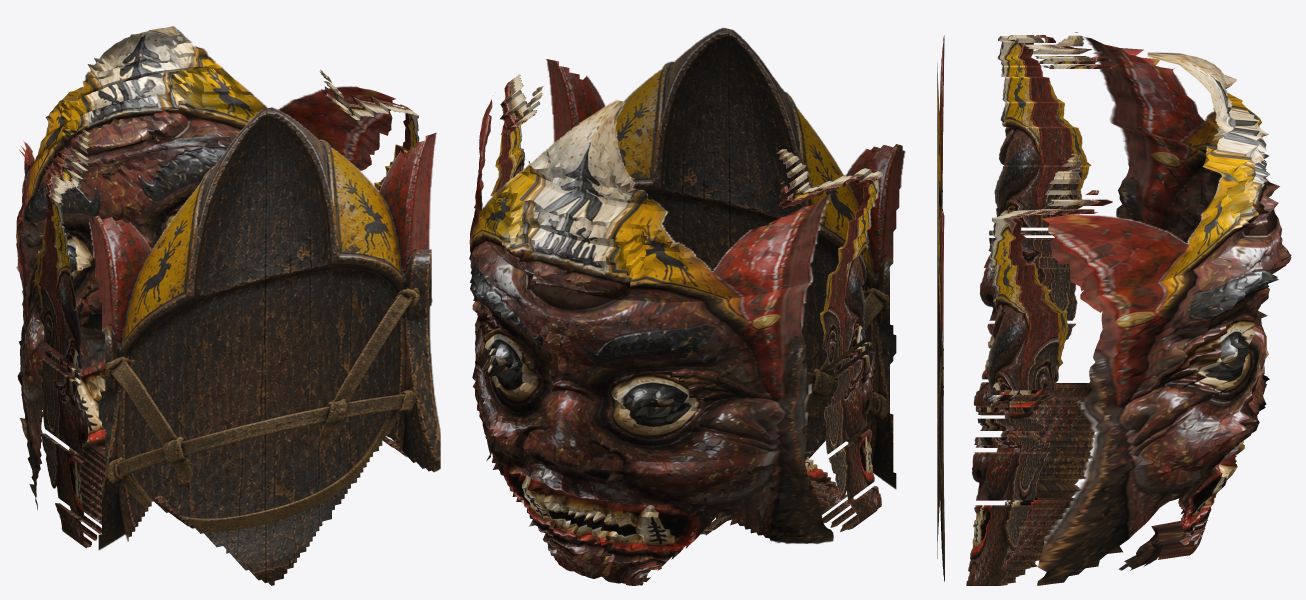
Rendered from kailu-jiangjun.glb.
3 views of the same model, side by side, from view 1: azimuth 30°, elevation 25°; view 2: azimuth 150°, elevation 25°; view 3: azimuth 270°, elevation 25° (orthographic). The views are drawn at different scales.
Visible parts, largest first — view 1: KailuJiangjun; view 2: KailuJiangjun; view 3: KailuJiangjun.
Part boxes in pixels (box(x1,y1,x2,y2)): KailuJiangjun: box(16, 26, 440, 585); KailuJiangjun: box(469, 27, 905, 585); KailuJiangjun: box(937, 32, 1291, 585).
Bounding box in the file's own units: 1.82 × 2.34 × 1.46.
3 materials, 3 textured.
